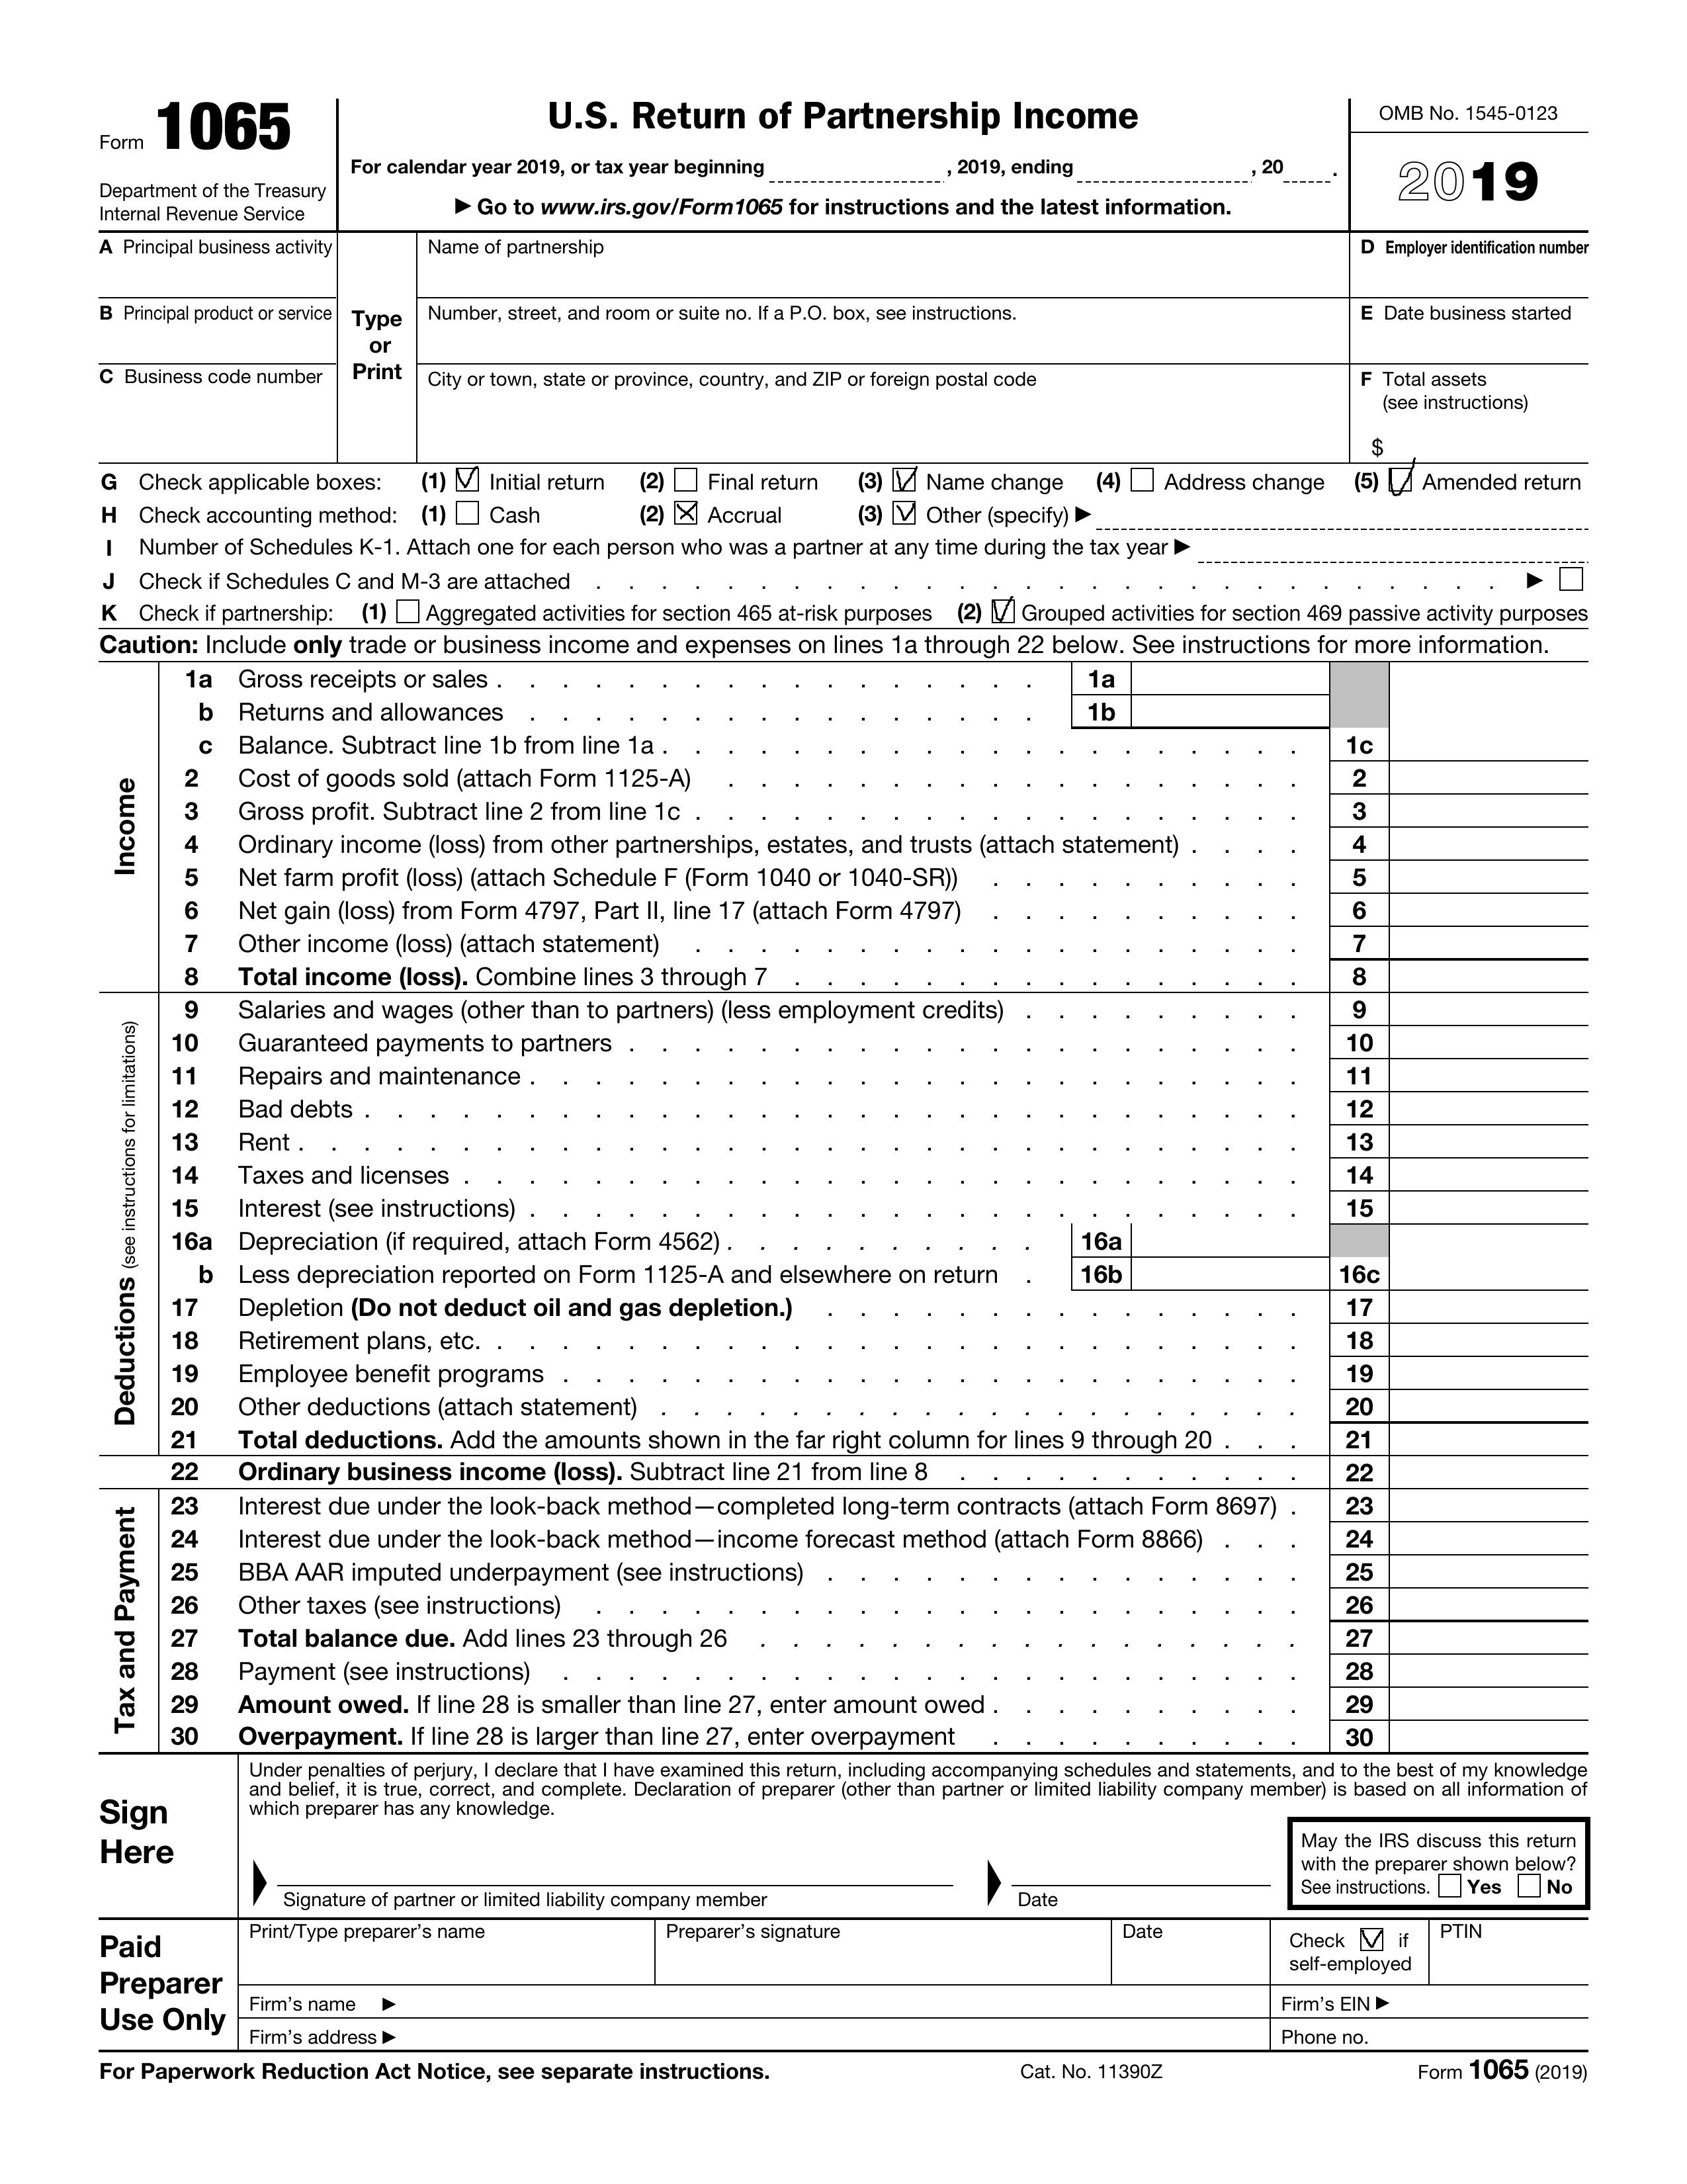checkbox: (1388, 468, 1416, 498), (455, 503, 484, 531), (673, 469, 700, 498), (891, 468, 918, 496), (395, 599, 422, 627), (992, 599, 1019, 627), (1559, 569, 1586, 597), (1437, 1876, 1465, 1902), (1517, 1874, 1543, 1902), (1359, 1927, 1386, 1956), (673, 503, 700, 530), (455, 469, 480, 496), (893, 501, 918, 528), (1131, 468, 1155, 494)
